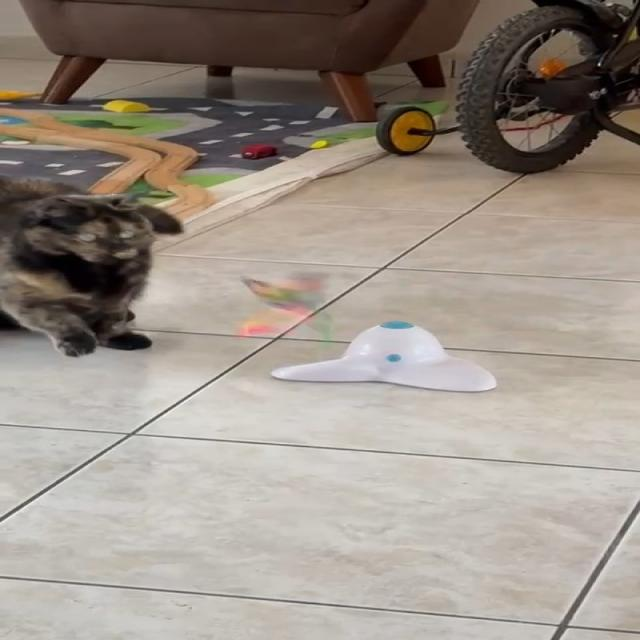authorized: (0, 174, 183, 357)
